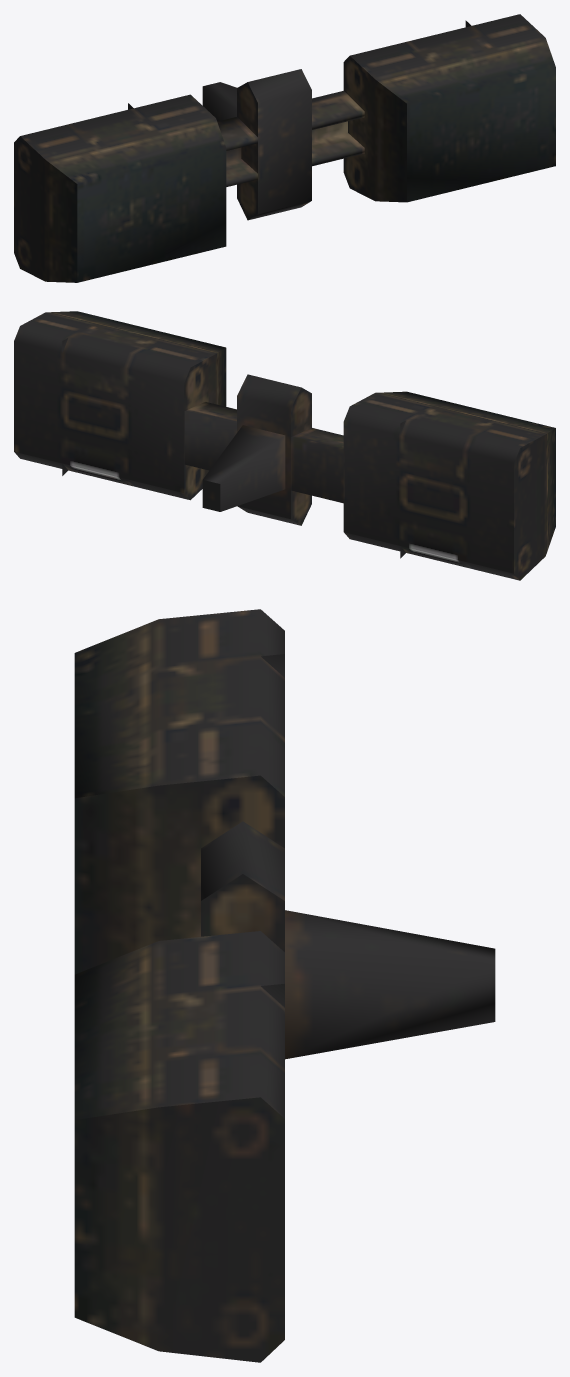
The picture shows the model from 3 angles, top to bottom: view 1: azimuth 30°, elevation 25°; view 2: azimuth 150°, elevation 25°; view 3: azimuth 270°, elevation 25°; orthographic projection. The views are drawn at different scales.
Visible parts, largest first — view 1: set_0_group_0; view 2: set_0_group_0; view 3: set_0_group_0.
Part boxes in pixels (x1,y1,x2,y2): set_0_group_0: (14,14,555,282); set_0_group_0: (14,311,555,580); set_0_group_0: (74,609,495,1362).
Size of the model in its own units: 0.5492 by 0.1453 by 0.2.
1 material, 1 textured.
